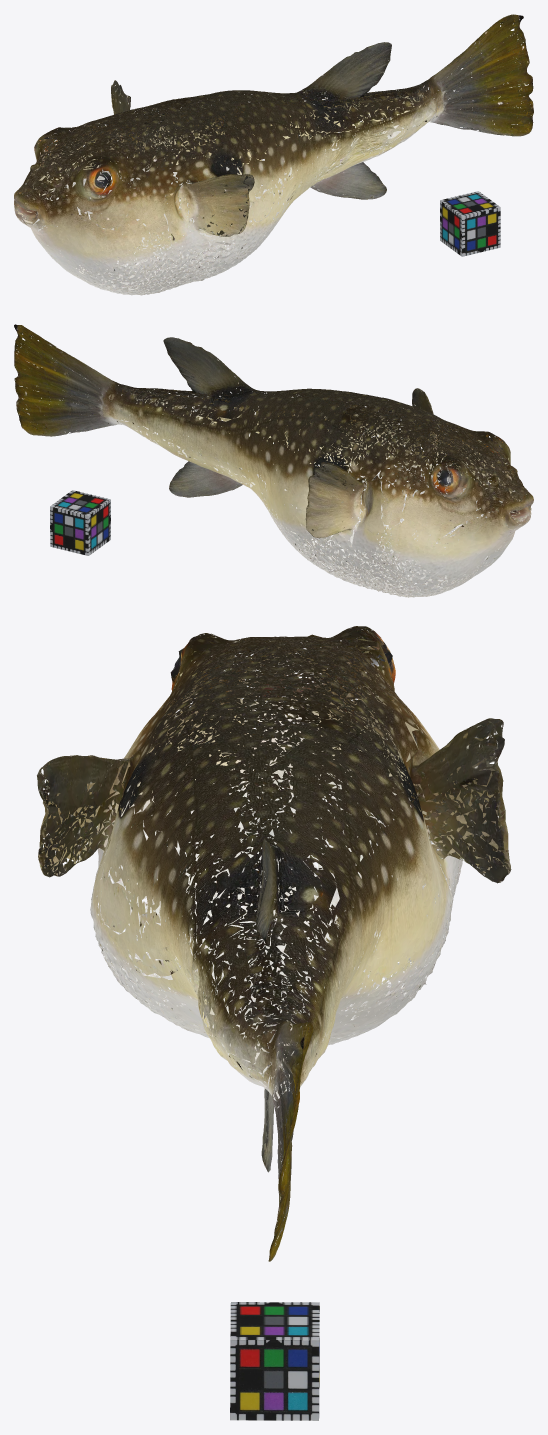
The model's file is scan_puffer.glb.
The picture shows the model from 3 angles, top to bottom: view 1: azimuth 30°, elevation 25°; view 2: azimuth 150°, elevation 25°; view 3: azimuth 270°, elevation 25°; orthographic projection. The views are drawn at different scales.
Parts seen in each view (by area): view 1: Object_11, Object_6, Object_4; view 2: Object_6, Object_11, Object_4; view 3: Object_6, Object_11, Object_4.
Part boxes in pixels (x1,y1,x2,y2): Object_11: (16,14,533,295); Object_6: (14,14,533,294); Object_4: (440,191,500,256); Object_6: (14,325,531,597); Object_11: (14,324,533,597); Object_4: (50,490,110,555); Object_6: (37,627,511,1261); Object_11: (37,626,510,1260); Object_4: (230,1302,319,1420).
Bounding box in the file's own units: 7.35 × 3.08 × 2.93.
Materials: 3 (3 with a texture image).
